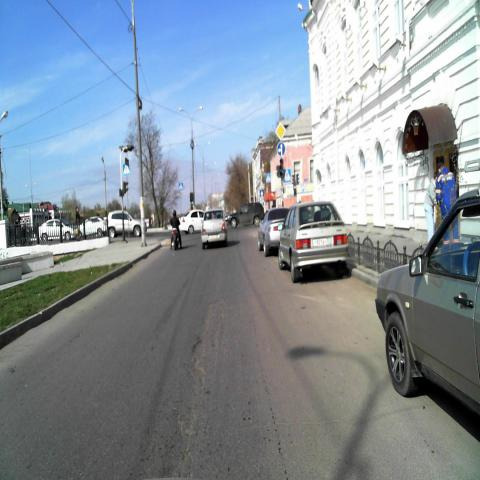4_1_5: (276, 142, 285, 156)
